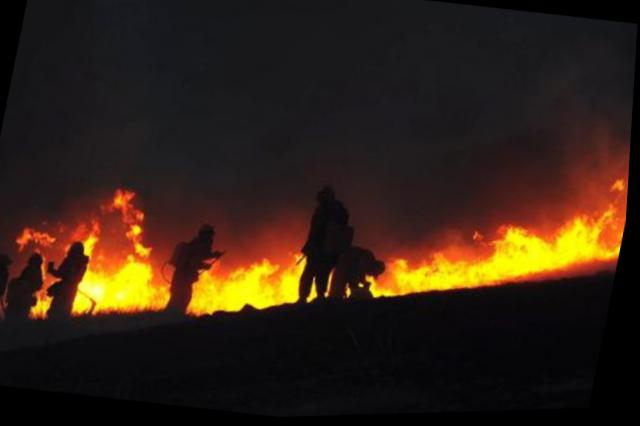fire: (0, 111, 632, 395)
